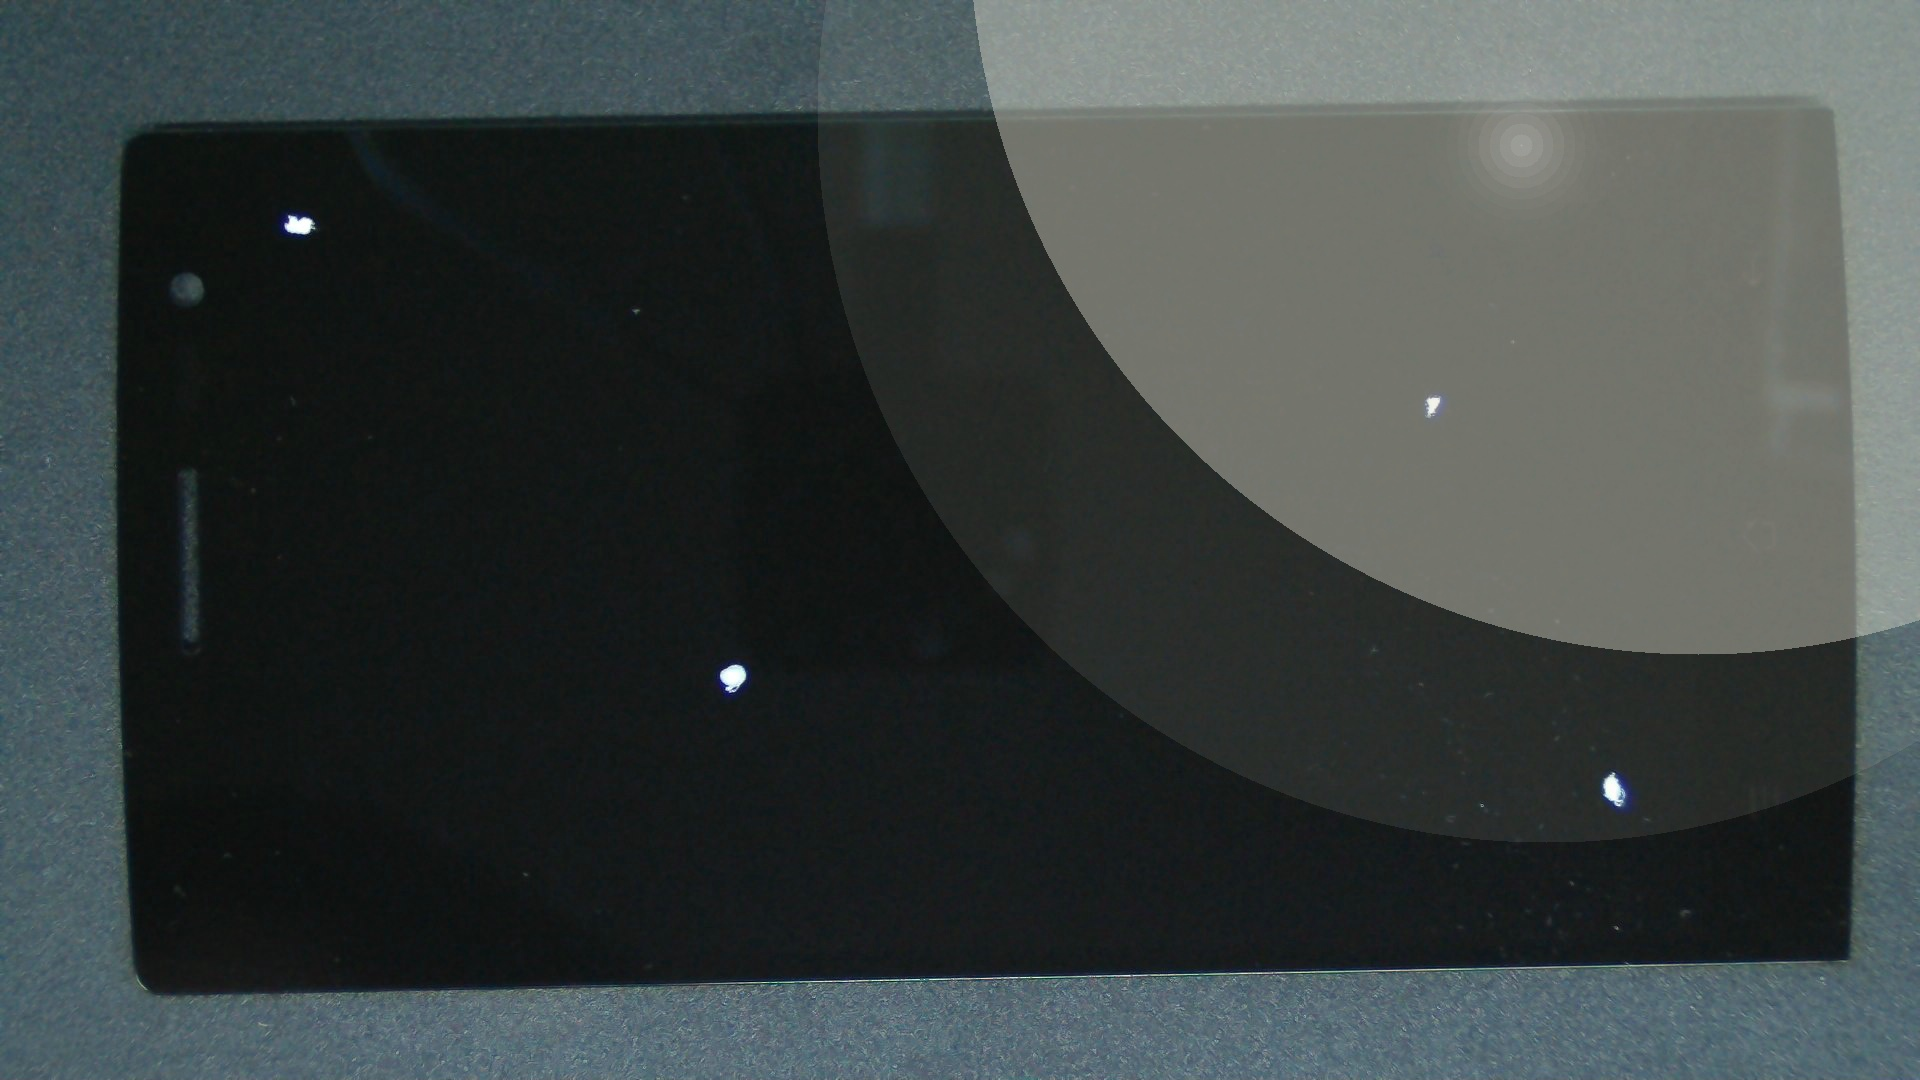oil: (807, 384, 1920, 1080), (367, 331, 1098, 996), (716, 196, 1920, 589), (144, 105, 430, 320)
